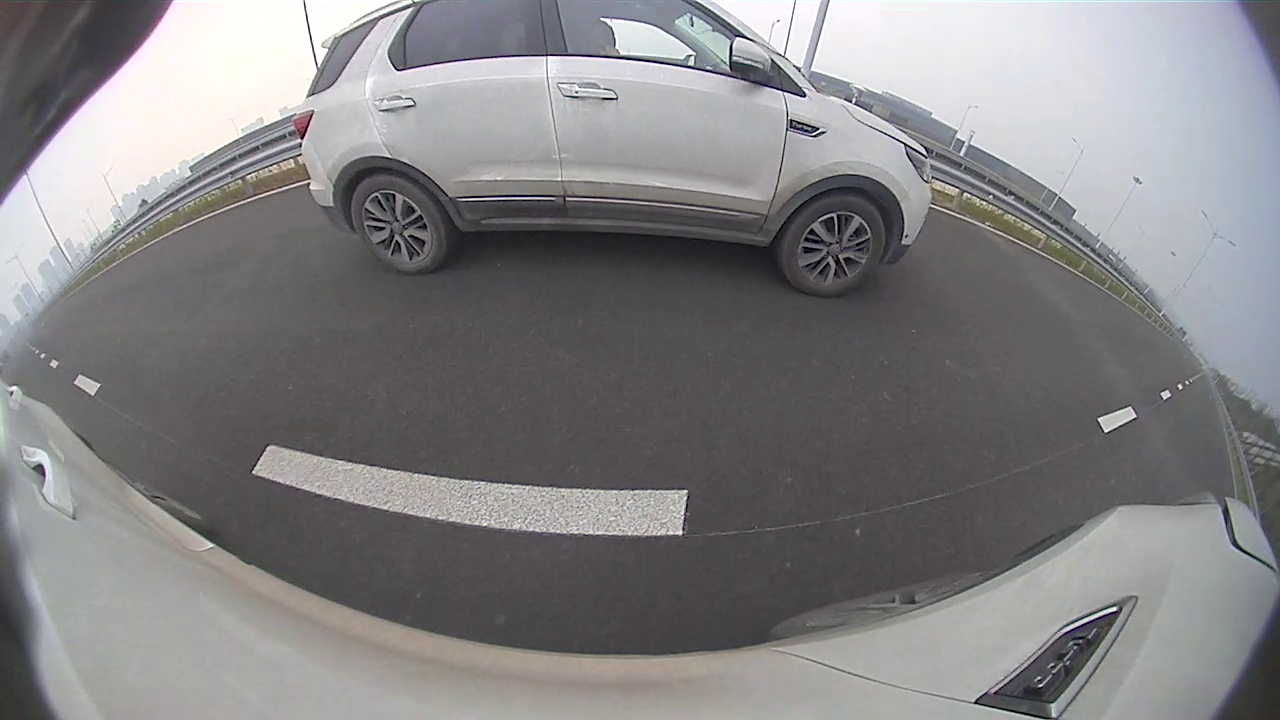car: (293, 1, 931, 295)
front: (784, 194, 888, 296)
rear: (351, 177, 448, 277)
